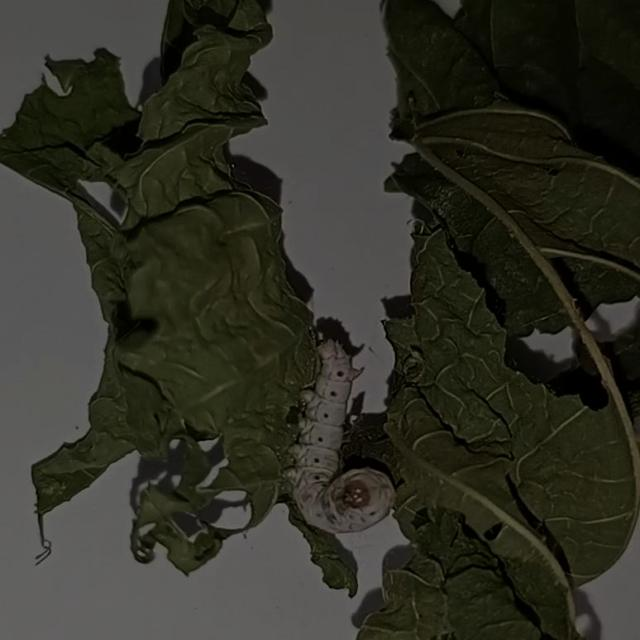Healthy: (274, 333, 411, 546)
